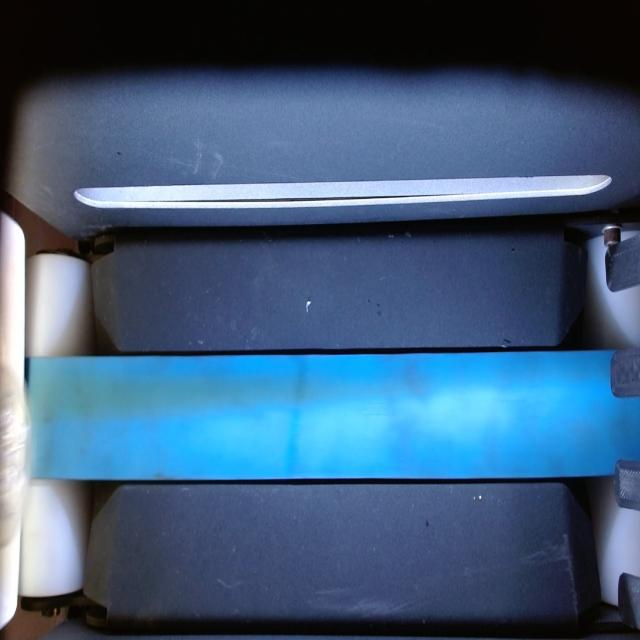bottom: (0, 364, 29, 546)
